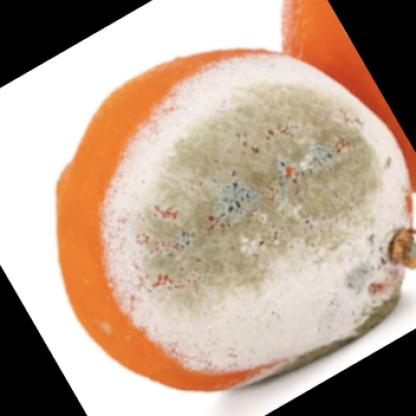rotten: (53, 48, 411, 393)
